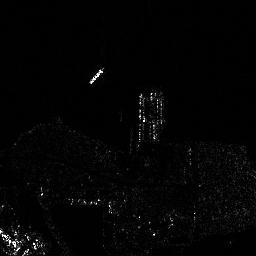ship: (87, 67, 105, 84)
